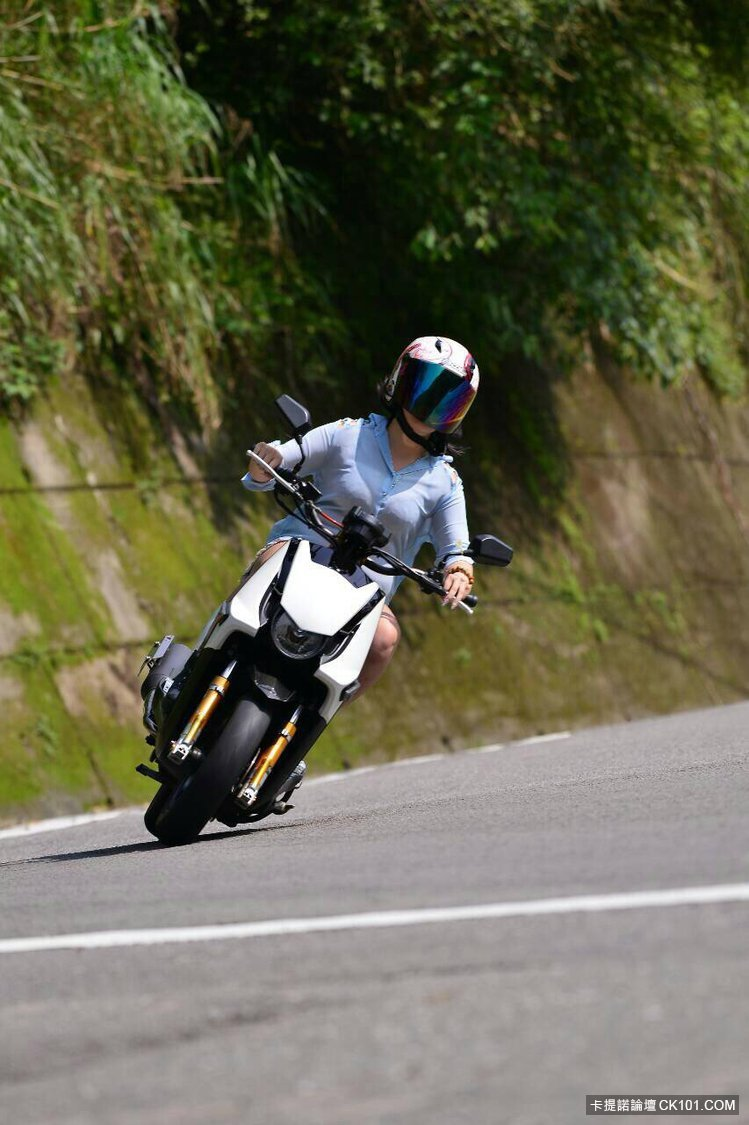helmet: (386, 331, 480, 440)
motorcycle: (130, 393, 516, 846)
